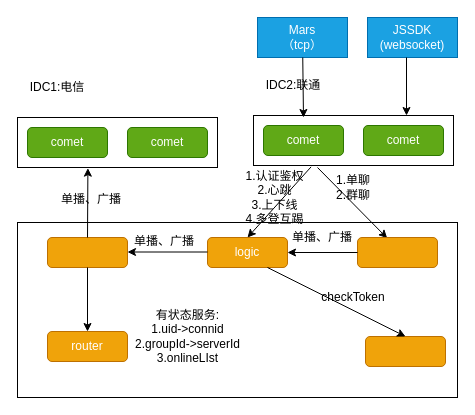
Image size: 475x415. Some labels were removed from this diagram. Here are the shapes that lost their labels. From the top down, the centre of each, then its label:
the point at 87,252: job
the point at 397,252: 消息服务
the point at 405,351: 认证服务
